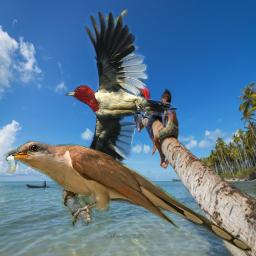Cuckoo: (0, 140, 253, 252)
Woodpecker: (63, 10, 178, 189)
